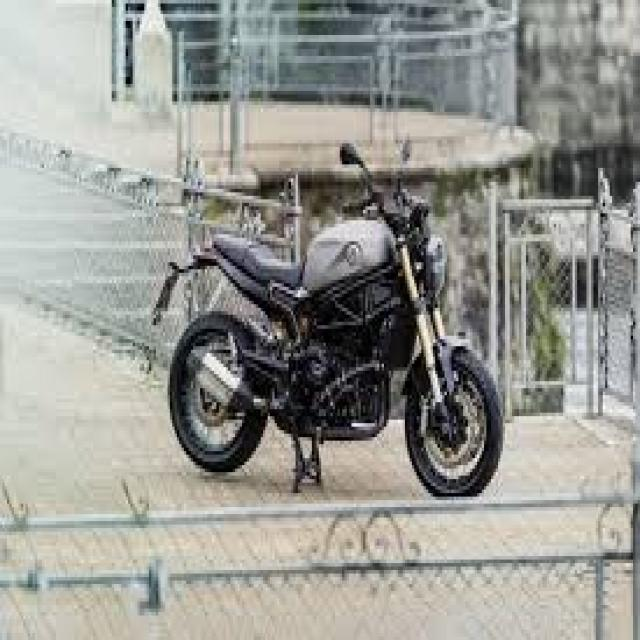Bike: (165, 140, 503, 506)
